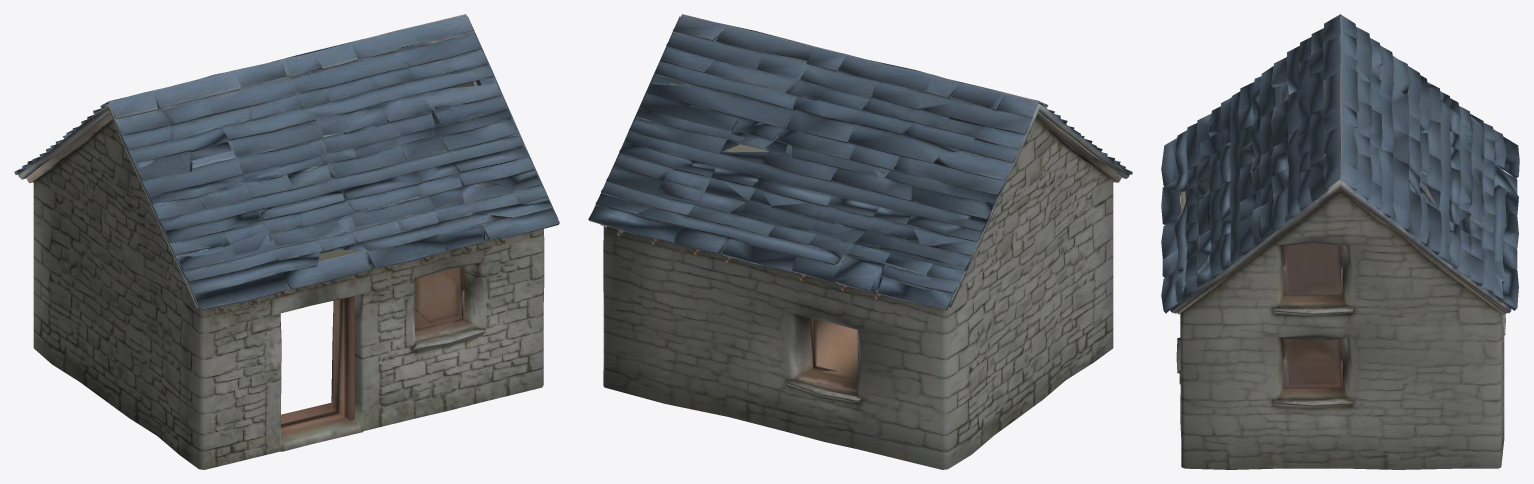
File: web.glb
The picture shows the model from 3 angles, left to right: view 1: azimuth 30°, elevation 25°; view 2: azimuth 150°, elevation 25°; view 3: azimuth 270°, elevation 25°; orthographic projection. The views are drawn at different scales.
Visible parts, largest first — view 1: Amber Door Bothy; view 2: Amber Door Bothy; view 3: Amber Door Bothy.
Part boxes in pixels (left/top/right/bottom): Amber Door Bothy: left=14, top=14, right=559, bottom=469; Amber Door Bothy: left=588, top=14, right=1132, bottom=469; Amber Door Bothy: left=1161, top=14, right=1519, bottom=469.
Bounding box in the file's own units: 0.998 × 0.8223 × 0.9121.
Materials: 2 (2 with a texture image).
